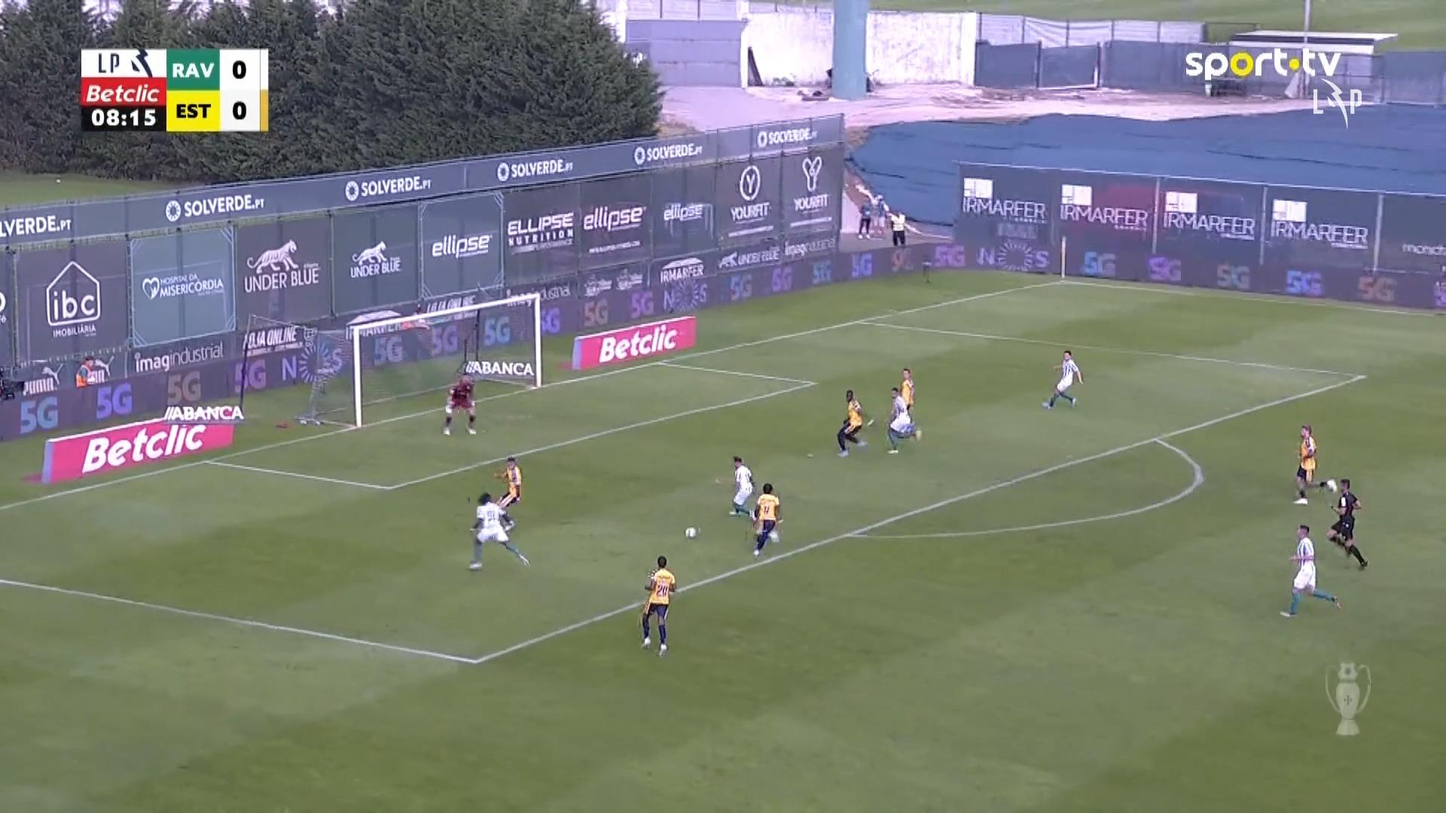ball: (685, 526, 697, 538)
goalkeeper: (441, 372, 477, 435)
player: (1278, 522, 1341, 617), (467, 492, 530, 569), (639, 554, 676, 657), (1041, 349, 1083, 410), (835, 388, 871, 457), (749, 482, 782, 557), (886, 385, 921, 453), (1292, 422, 1317, 504), (493, 455, 523, 512), (729, 455, 755, 516), (899, 366, 915, 410)
referee: (1325, 477, 1368, 569)
